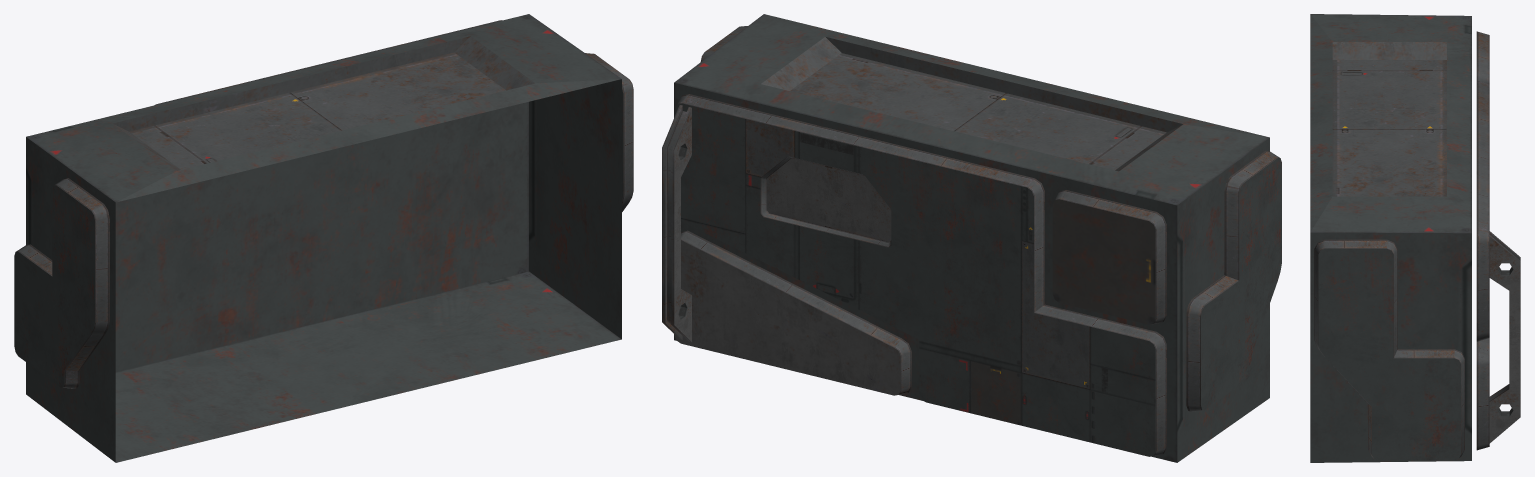
Rendered from ARC0910251.fbx.
3 renders of one model, left to right at view 1: azimuth 30°, elevation 25°; view 2: azimuth 150°, elevation 25°; view 3: azimuth 270°, elevation 25°, orthographic. The views are drawn at different scales.
Parts seen in each view (by area): view 1: smARC0910251; view 2: smARC0910251; view 3: smARC0910251.
Part boxes in pixels (bbox=[...]): smARC0910251: bbox=[14, 14, 633, 462]; smARC0910251: bbox=[662, 14, 1281, 462]; smARC0910251: bbox=[1310, 14, 1520, 462].
Bounding box in the file's own units: 1255 × 590 × 480.
Materials: 1 (1 with a texture image).
